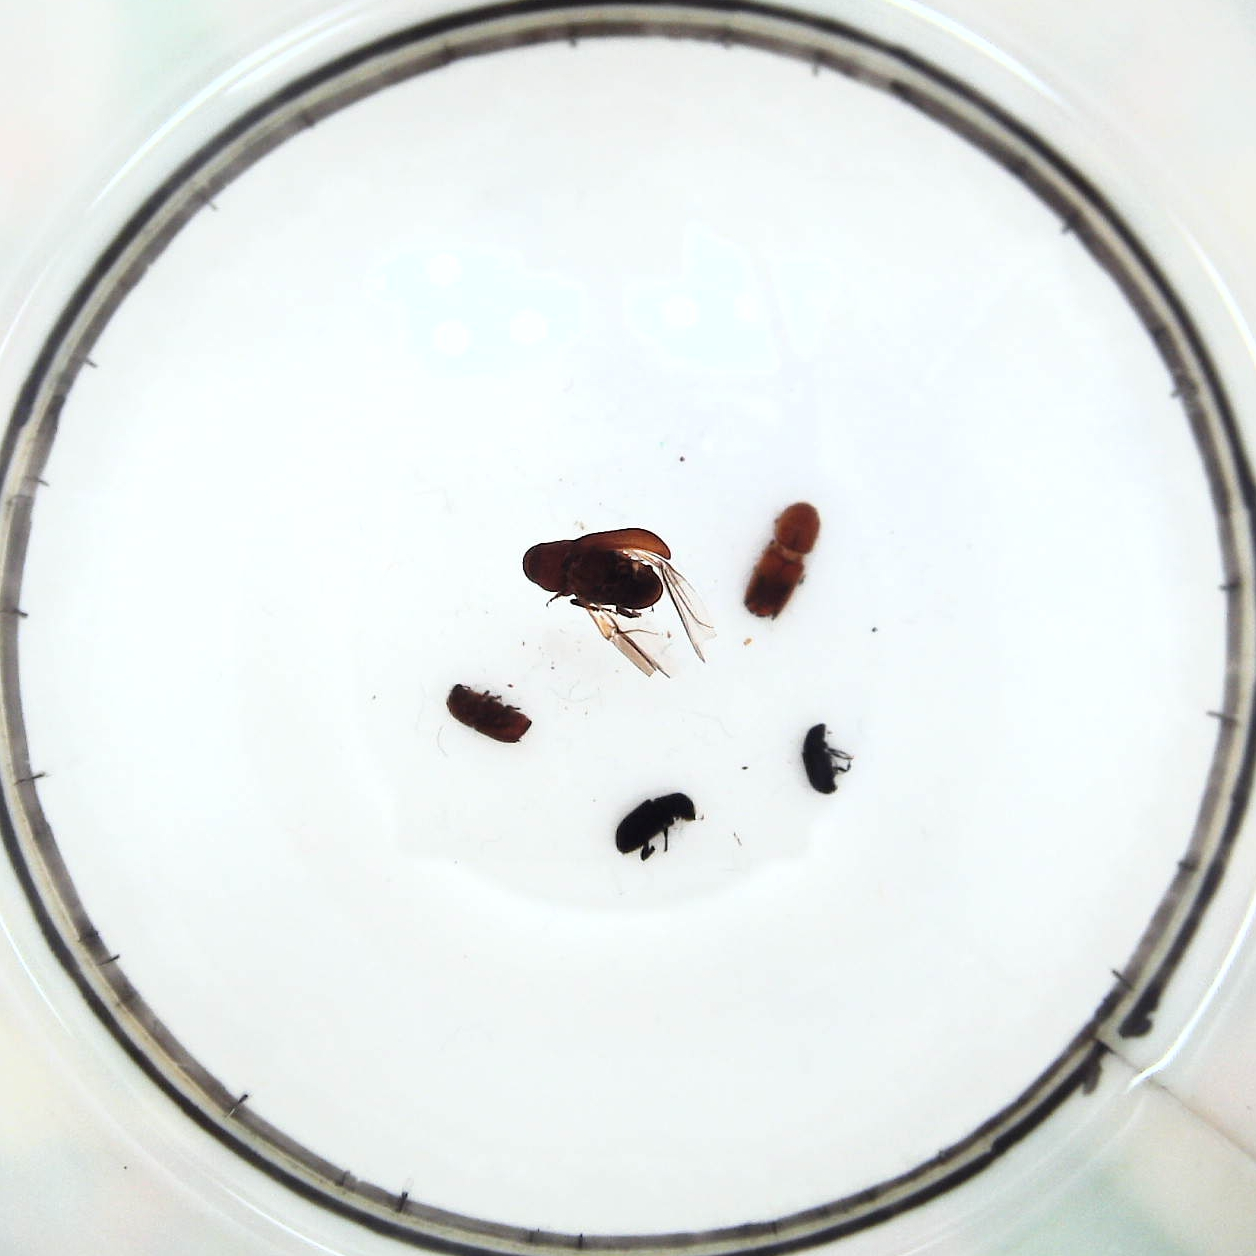Boerner: (741, 500, 824, 625)
Leconte: (523, 531, 703, 673)
Linnaeus: (442, 682, 533, 746)
armandi: (616, 791, 694, 864)
coleoptera: (801, 719, 848, 794)
